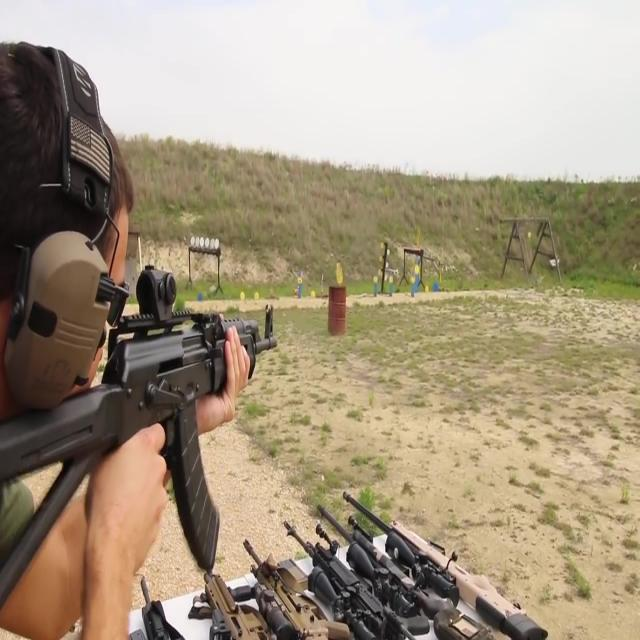Weapon: (0, 234, 292, 564), (100, 481, 624, 640)
